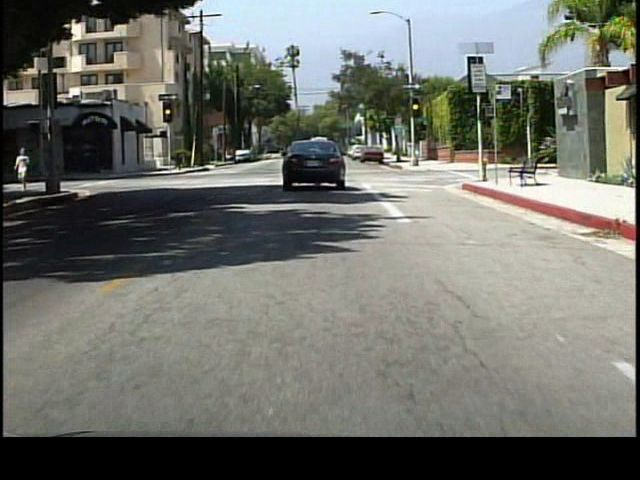person: (15, 145, 34, 193)
